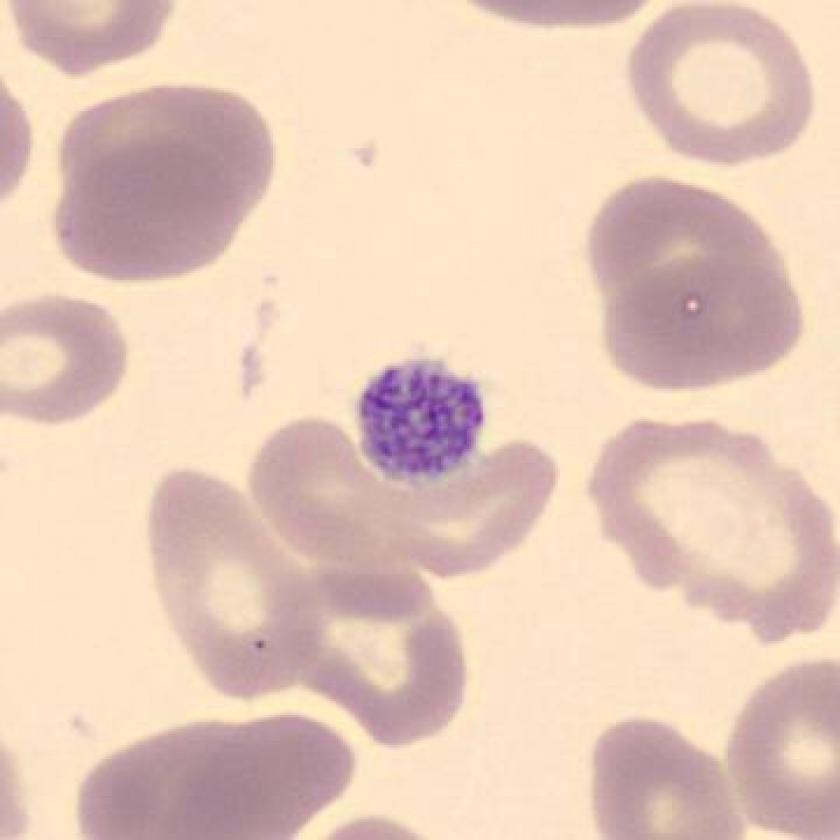platelets: (351, 344, 491, 492)
